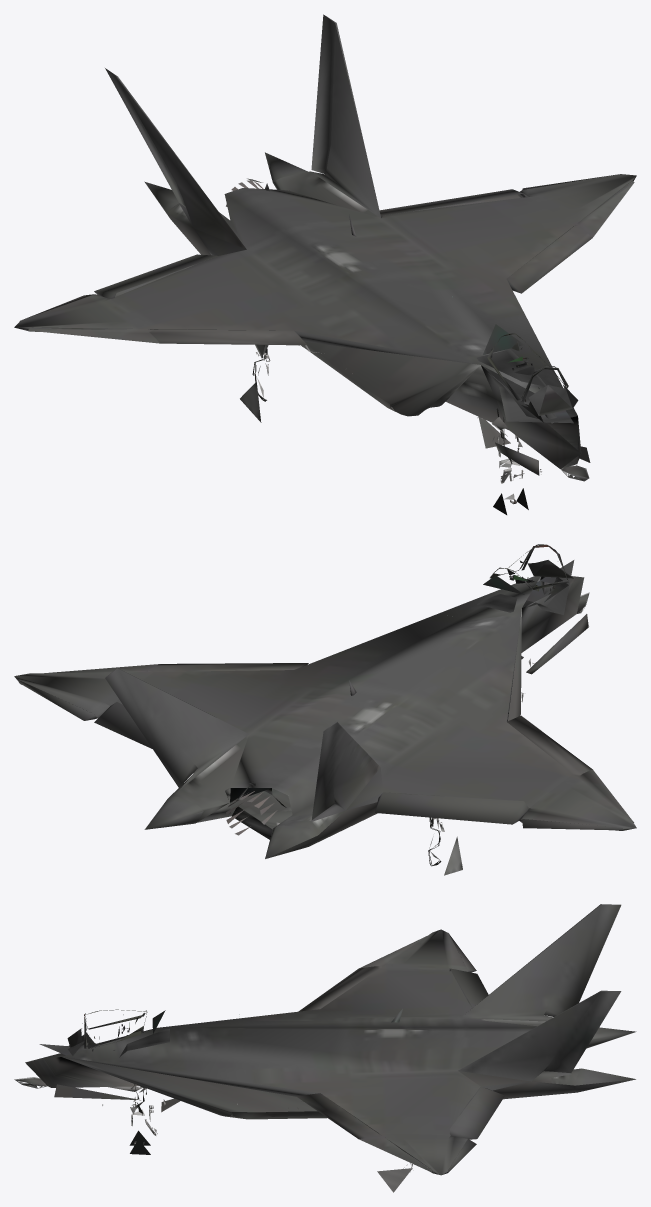
The model's file is jet_f35_lod1.glb.
The picture shows the model from 3 angles, top to bottom: view 1: azimuth 30°, elevation 25°; view 2: azimuth 150°, elevation 25°; view 3: azimuth 270°, elevation 25°; orthographic projection. The views are drawn at different scales.
Parts seen in each view (by area): view 1: LOD1; view 2: LOD1; view 3: LOD1.
Part boxes in pixels (<box>): LOD1: <box>14,14,636,514</box>; LOD1: <box>14,544,636,875</box>; LOD1: <box>14,904,636,1192</box>.
Bounding box in the file's own units: 13.41 × 5.26 × 14.35.
Materials: 1 (1 with a texture image).
